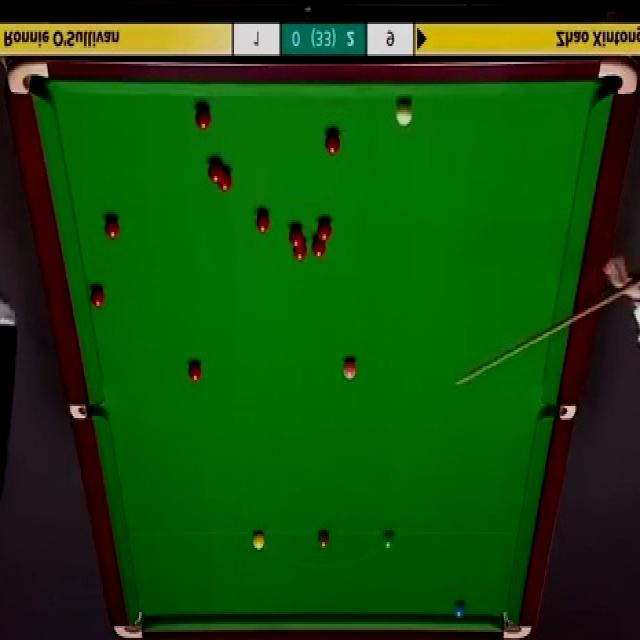blue-ball: (452, 597, 468, 622)
brown-ball: (317, 529, 331, 549)
green-ball: (382, 528, 396, 550)
pink-ball: (342, 357, 358, 382)
red-ball: (102, 213, 120, 243), (195, 104, 211, 131), (325, 128, 341, 155), (89, 283, 106, 308), (256, 208, 272, 232), (288, 224, 304, 247), (208, 158, 222, 184), (187, 361, 202, 385), (291, 240, 308, 261), (317, 220, 332, 242), (311, 238, 327, 258), (219, 168, 232, 192)
white-ball: (392, 103, 413, 130)
yellow-ball: (252, 530, 266, 550)
